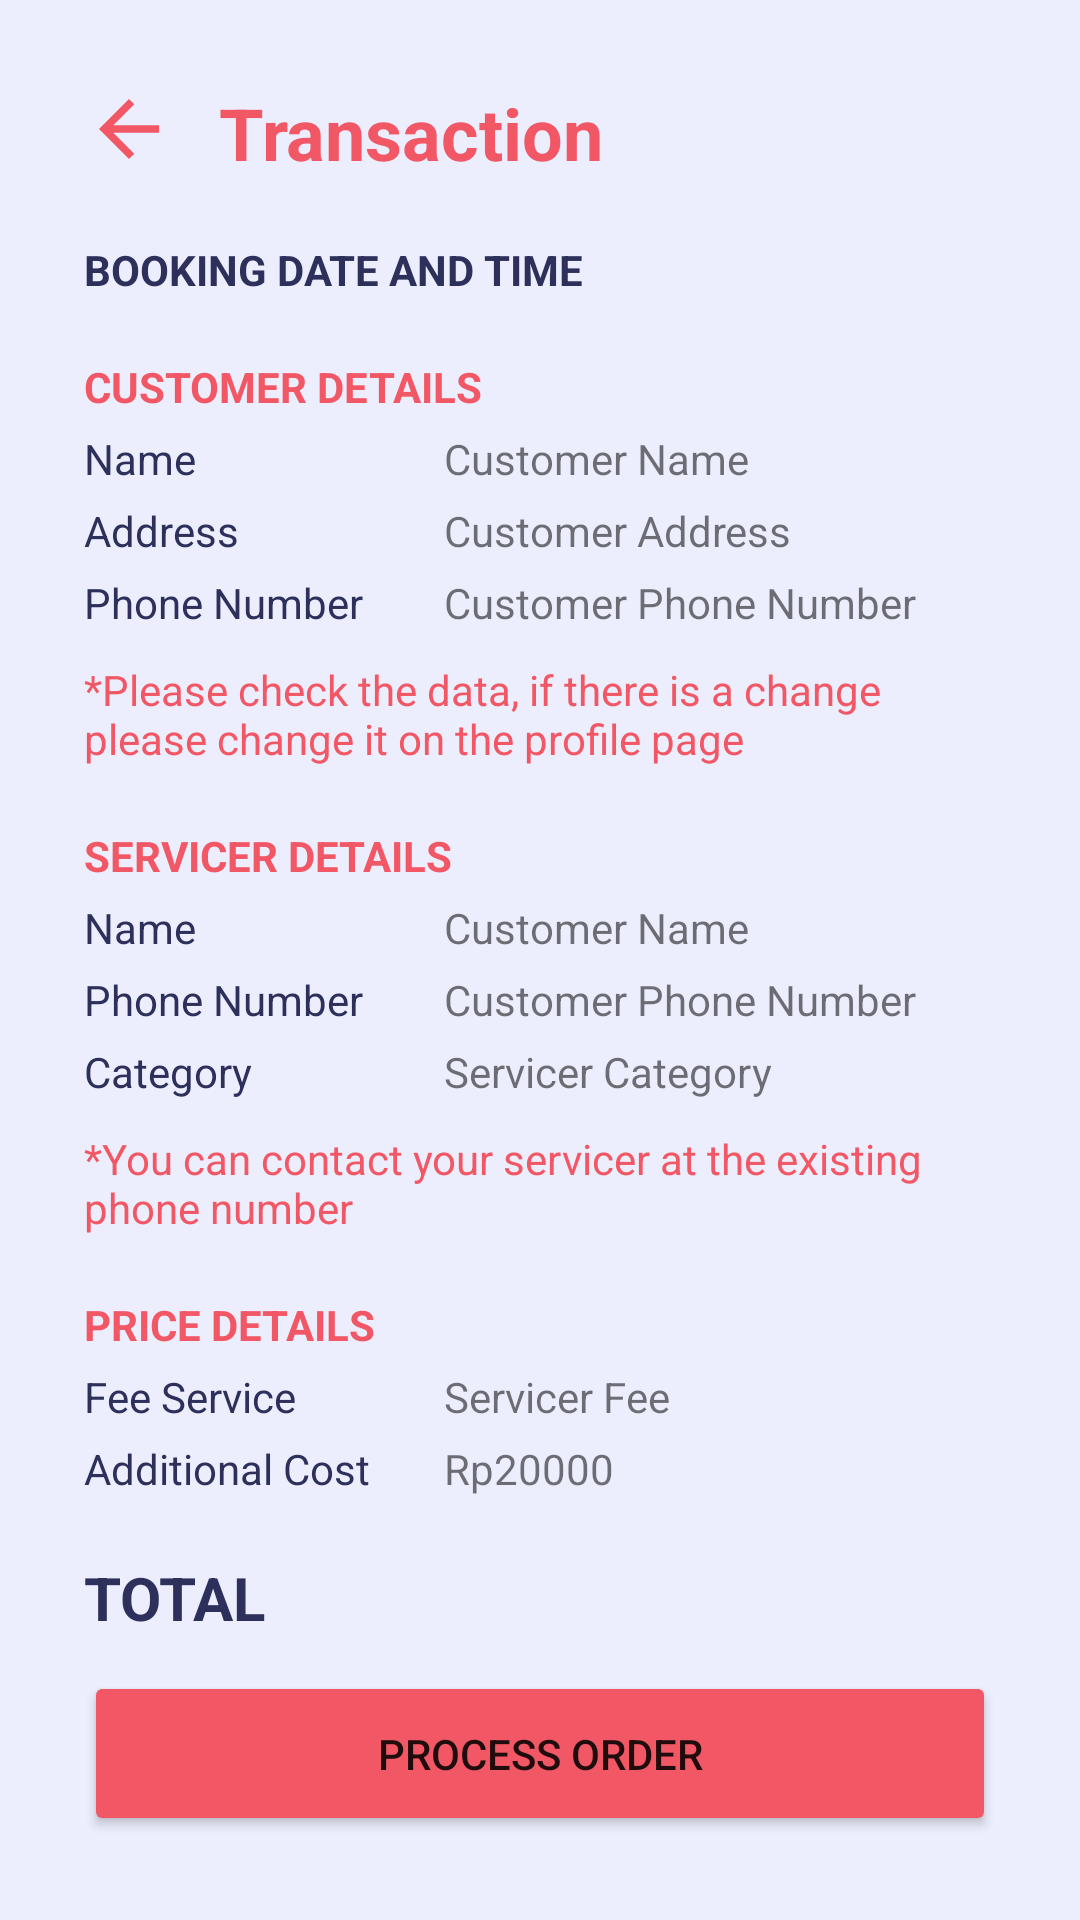

Point at icon controls on the screen. Image size 1080 x 1920, points as (x=x, y=y).
arrow back: (x=129, y=129)
